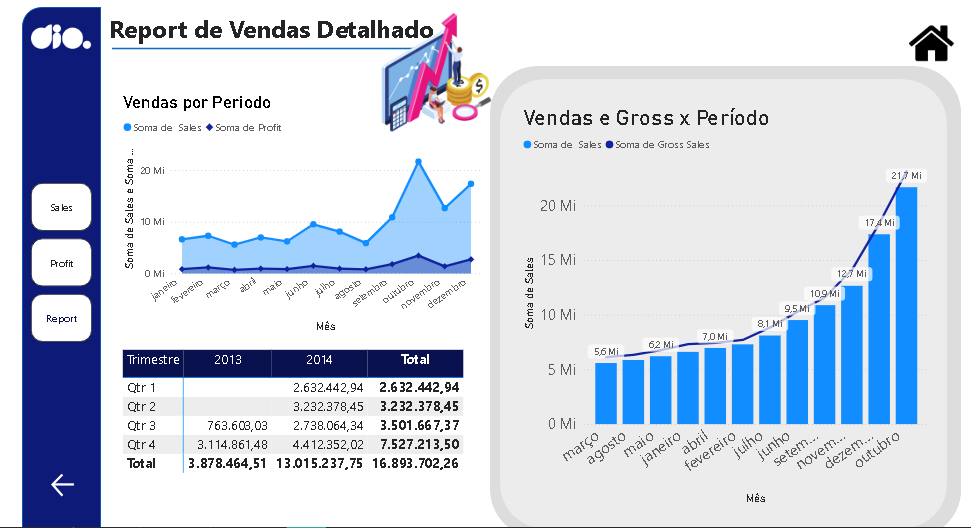

What the dashboard file says about the page in this screenshot:
{"tool":"powerbi","page":{"name":"Report","canvas":[1280,720],"ordinal":2},"visuals":[{"type":"shape","box":[645.8,88.3,620,620],"z":0},{"type":"shape","box":[659.2,105,588.3,591.7],"z":1000},{"type":"shape","box":[30,10,103.8,688.5],"z":2000},{"type":"textbox","box":[140,10,444,56],"z":3000},{"type":"shape","box":[149,53,426,25],"z":4000},{"type":"image","box":[42.3,10,79.2,77.7],"z":5000},{"type":"actionButton","box":[64,620,44,40],"z":6000},{"type":"pageNavigator","box":[41.7,241.7,80,211.7],"z":7000},{"type":"lineClusteredColumnComboChart","title":"Vendas e Gross x Período","fields":{"Category":["financials.Date.Variation.Hierarquia de datas.Mês"],"Y":["Sum(financials. Sales)"],"Y2":["Sum(financials.Gross Sales)"]},"box":[683.6,138.4,543.8,531.5],"z":8000},{"type":"pivotTable","fields":{"Columns":["financials.Date.Variation.Hierarquia de datas.Ano"],"Rows":["financials.Date.Variation.Hierarquia de datas.Trimestre"],"Values":["Sum(financials.Profit)"]},"box":[157.5,456.2,463,183.6],"z":9000},{"type":"areaChart","title":"Vendas por Periodo","fields":{"Category":["financials.Date.Variation.Hierarquia de datas.Ano","financials.Date.Variation.Hierarquia de datas.Trimestre","financials.Date.Variation.Hierarquia de datas.Mês"],"Y":["Sum(financials. Sales)","Sum(financials.Profit)"]},"box":[158,122,482,322],"z":10000},{"type":"image","box":[1197.3,27.4,58.9,60.3],"z":11000},{"type":"actionButton","box":[1197.3,27.4,58.9,60.3],"z":12000},{"type":"image","box":[481.4,18.6,188.6,155.7],"z":13000}]}

Visuals, with their boxes on the page's 1280x720 design canvas (x1, y1, x2, y2). These are canvas units, not pixel positions in the 971x528 screenshot, which may show the page scaled, cropped or inside an application window:
shape: 646, 88, 1266, 708
shape: 659, 105, 1248, 697
shape: 30, 10, 134, 698
textbox: 140, 10, 584, 66
shape: 149, 53, 575, 78
image: 42, 10, 122, 88
actionButton: 64, 620, 108, 660
pageNavigator: 42, 242, 122, 453
"Vendas e Gross x Período" lineClusteredColumnComboChart: 684, 138, 1227, 670
pivotTable - financials.Date.Variation.Hierarquia de datas.Ano x financials.Date.Variation.Hierarquia de datas.Trimestre: 158, 456, 620, 640
"Vendas por Periodo" areaChart: 158, 122, 640, 444
image: 1197, 27, 1256, 88
actionButton: 1197, 27, 1256, 88
image: 481, 19, 670, 174
